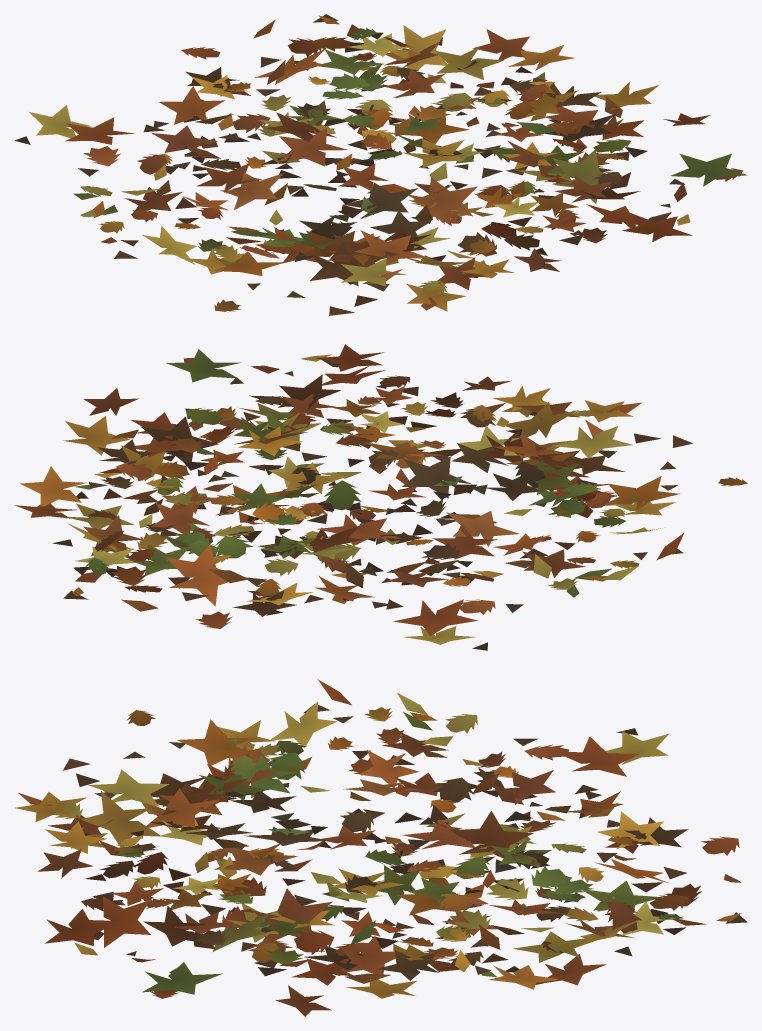
Rendered from litter-autumn-a.lod0.glb.
3 renders of one model, top to bottom at view 1: azimuth 30°, elevation 25°; view 2: azimuth 150°, elevation 25°; view 3: azimuth 270°, elevation 25°, orthographic. The views are drawn at different scales.
Bounding box in the file's own units: 1.86 × 0.095 × 1.82.
